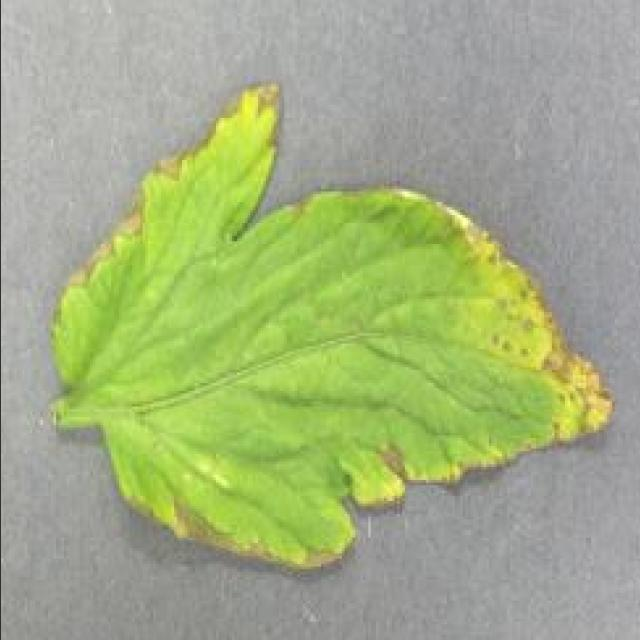bacterial spot: (42, 82, 618, 572)
